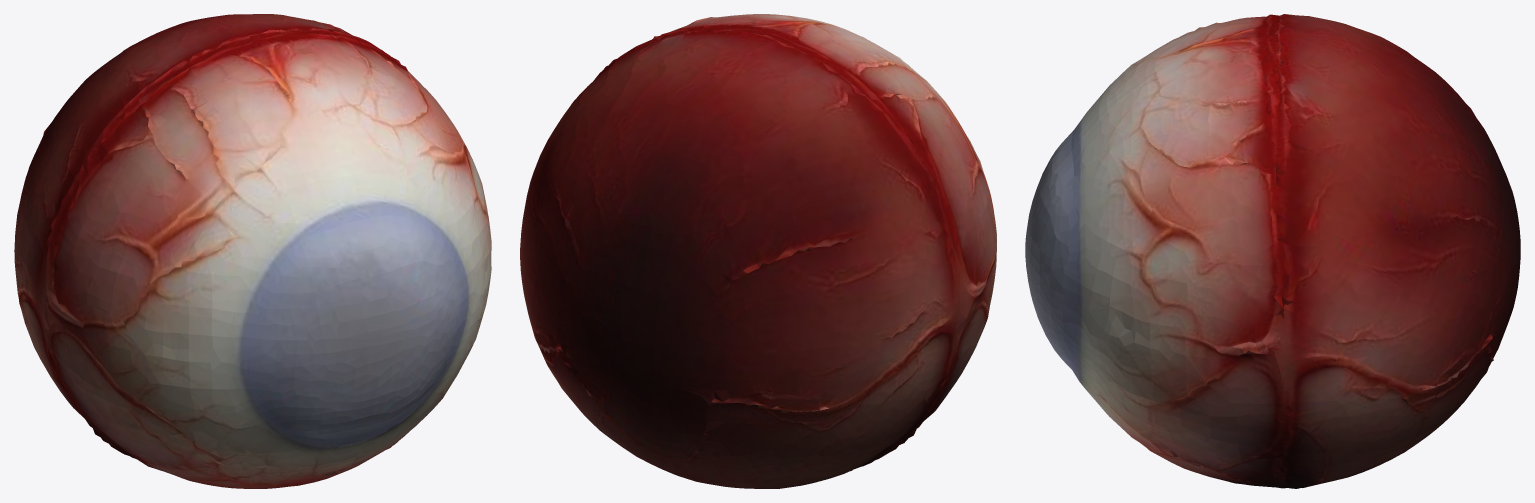
The model's file is glaucoma-eye.glb.
The picture shows the model from 3 angles, left to right: view 1: azimuth 30°, elevation 25°; view 2: azimuth 150°, elevation 25°; view 3: azimuth 270°, elevation 25°; orthographic projection.
Visible parts, largest first — view 1: GlaucomaEye; view 2: GlaucomaEye; view 3: GlaucomaEye.
Boxes of the visible parts, x1=… form: GlaucomaEye: x1=14, y1=14, x2=491, y2=488; GlaucomaEye: x1=520, y1=14, x2=996, y2=488; GlaucomaEye: x1=1025, y1=14, x2=1520, y2=488.
Size of the model in its own units: 0.029 by 0.0287 by 0.03.
1 material, 1 textured.
